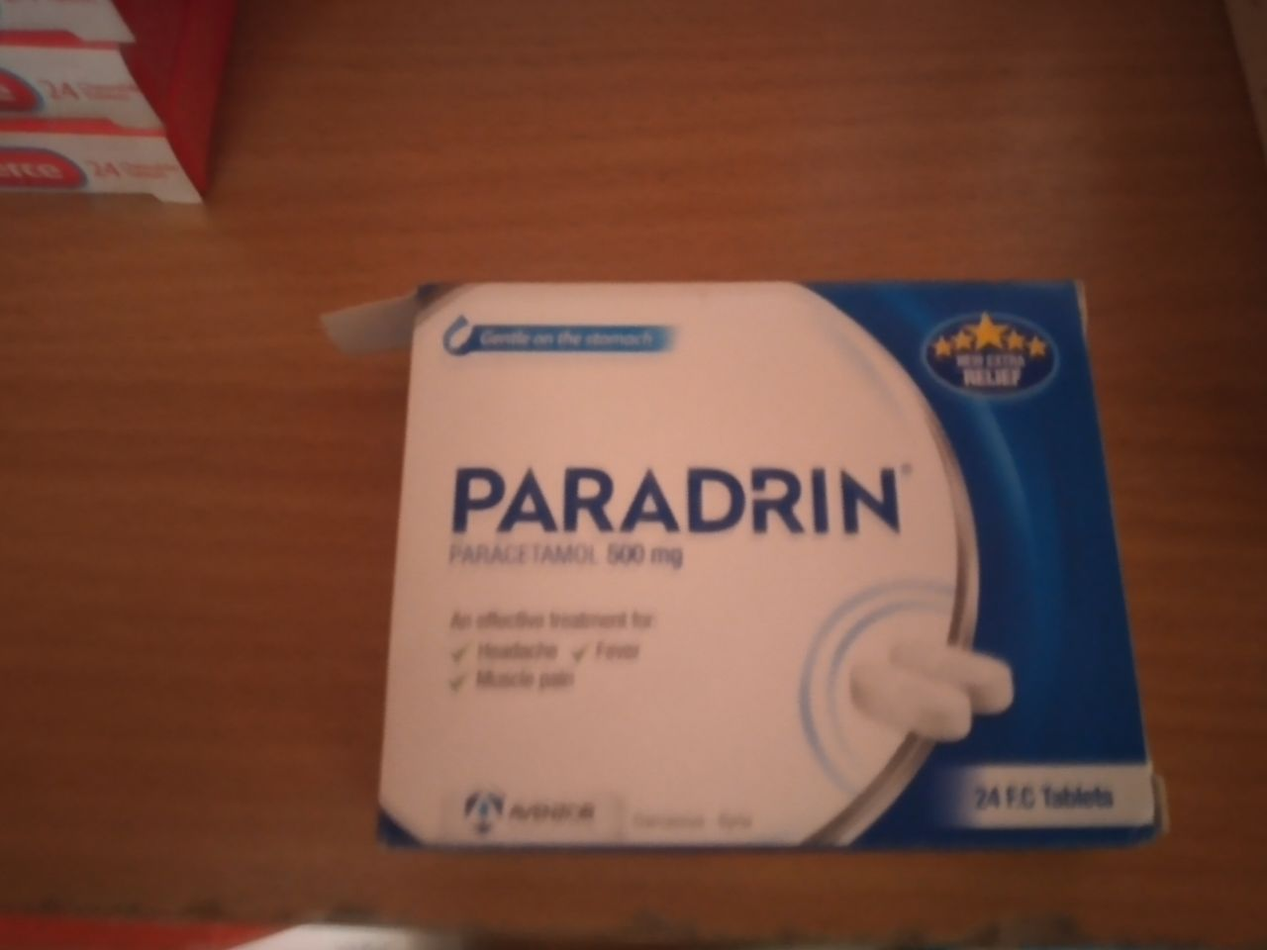Medicine: (384, 272, 1168, 854)
